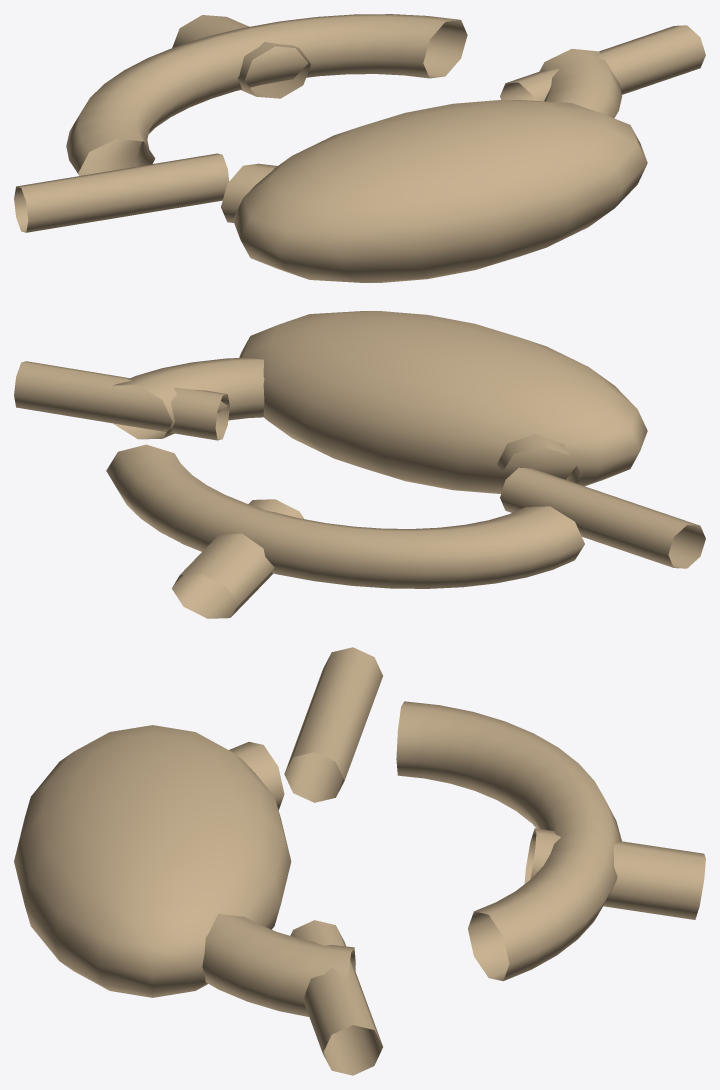
3 renders of one model, top to bottom at view 1: azimuth 30°, elevation 25°; view 2: azimuth 150°, elevation 25°; view 3: azimuth 270°, elevation 25°, orthographic. The views are drawn at different scales.
Visible parts, largest first — view 1: l2:centrum, l2:neural-arch--1, l2:transverse--1, l2:transverse-1, l2:neural-arch-1, l2:spinous-process; view 2: l2:centrum, l2:neural-arch--1, l2:transverse-1, l2:transverse--1, l2:neural-arch-1, l2:spinous-process; view 3: l2:centrum, l2:neural-arch--1, l2:neural-arch-1, l2:transverse--1, l2:spinous-process, l2:transverse-1.
Boxes of the visible parts, x1=… form: l2:centrum: x1=233, y1=100, x2=647, y2=282; l2:neural-arch--1: x1=66, y1=14, x2=467, y2=175; l2:transverse--1: x1=14, y1=153, x2=229, y2=232; l2:transverse-1: x1=500, y1=25, x2=705, y2=101; l2:neural-arch-1: x1=221, y1=48, x2=621, y2=222; l2:spinous-process: x1=172, y1=15, x2=310, y2=98; l2:centrum: x1=239, y1=311, x2=647, y2=493; l2:neural-arch--1: x1=106, y1=444, x2=584, y2=588; l2:transverse-1: x1=14, y1=361, x2=229, y2=440; l2:transverse--1: x1=500, y1=467, x2=705, y2=568; l2:neural-arch-1: x1=113, y1=357, x2=581, y2=483; l2:spinous-process: x1=172, y1=499, x2=303, y2=618; l2:centrum: x1=14, y1=725, x2=291, y2=997; l2:neural-arch--1: x1=396, y1=701, x2=621, y2=981; l2:neural-arch-1: x1=202, y1=742, x2=355, y2=1016; l2:transverse--1: x1=284, y1=647, x2=382, y2=802; l2:spinous-process: x1=524, y1=828, x2=705, y2=919; l2:transverse-1: x1=290, y1=920, x2=382, y2=1075.
Bounding box in the file's own units: 0.1978 × 0.0365 × 0.1505.
